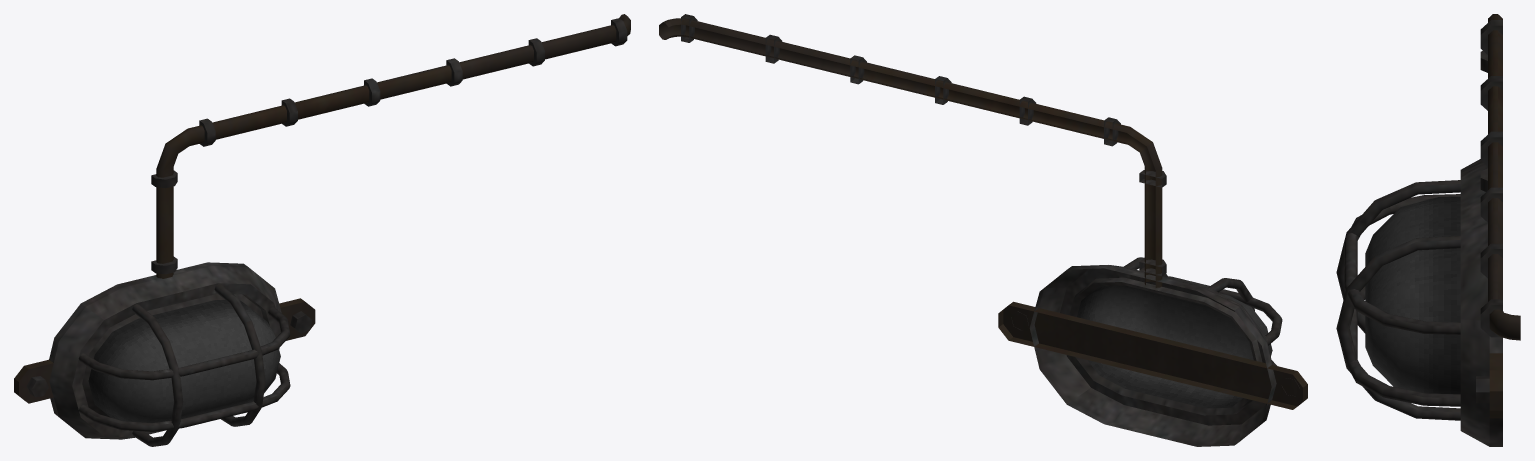
Rendered from lamp_1_off.dae.
3 renders of one model, left to right at view 1: azimuth 30°, elevation 25°; view 2: azimuth 150°, elevation 25°; view 3: azimuth 270°, elevation 25°, orthographic. The views are drawn at different scales.
Parts seen in each view (by area): view 1: lamp_1_off; view 2: lamp_1_off; view 3: lamp_1_off.
Part boxes in pixels (x1,y1,x2,y2): lamp_1_off: [14, 14, 630, 446]; lamp_1_off: [659, 14, 1307, 446]; lamp_1_off: [1336, 14, 1520, 446].
Size of the model in its own units: 0.7532 by 0.1393 by 0.343.
4 materials, 4 textured.
